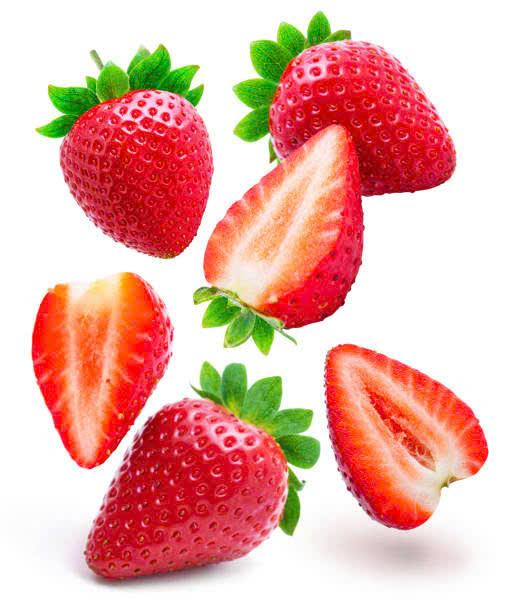pineapple: (82, 377, 298, 584), (254, 16, 474, 191), (216, 127, 368, 338)
strawberry: (46, 45, 219, 259), (317, 332, 496, 537), (26, 266, 173, 461)
